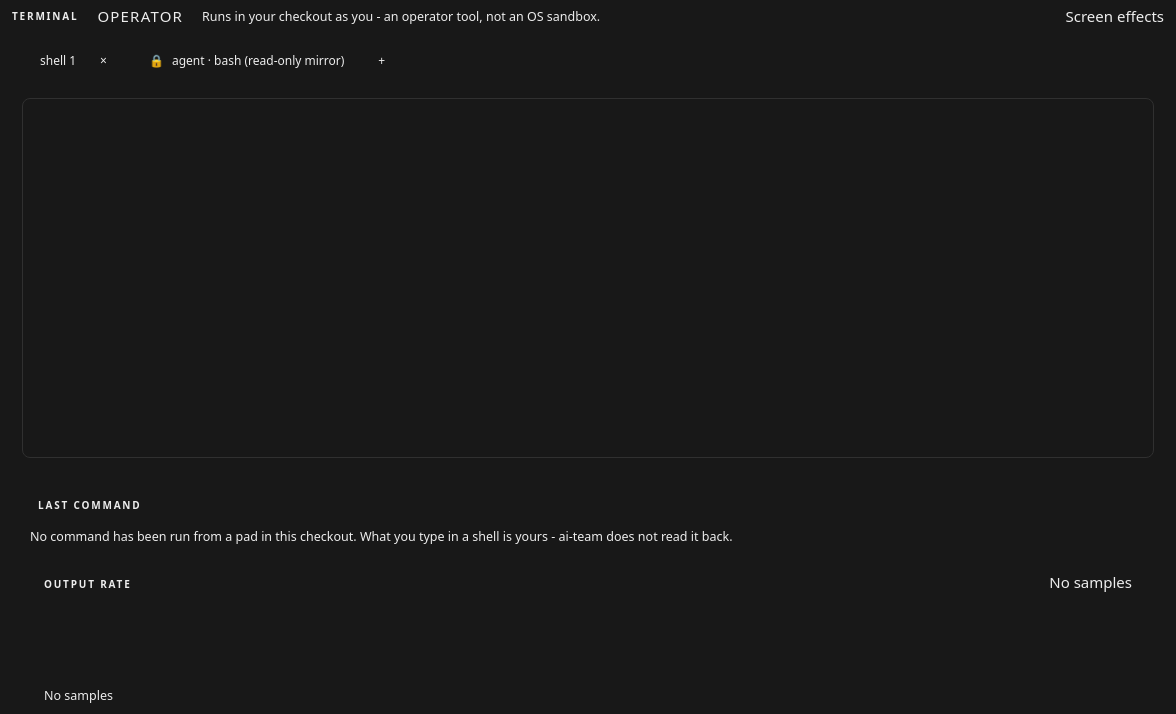
Test: stops queued input after an uncertain write and never resends it
Click the tab "shell 1": (51, 60) [12,44,90,76]
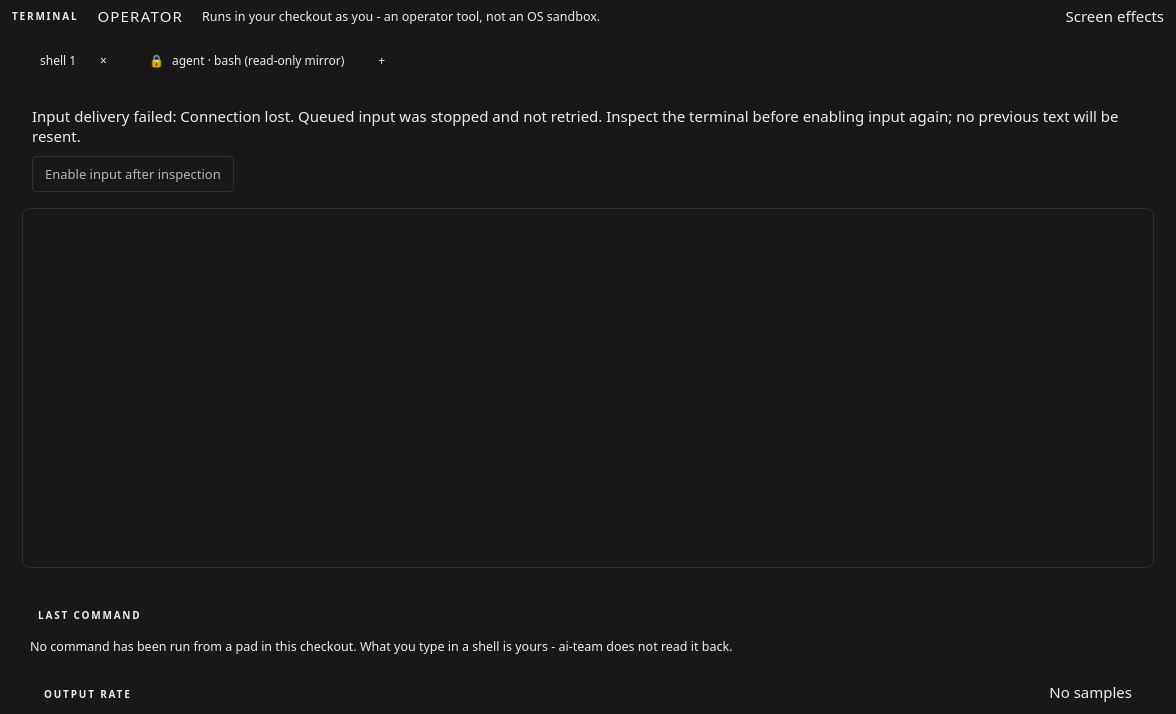
Expected: the message shows "not retried", [32,106,1118,146]
